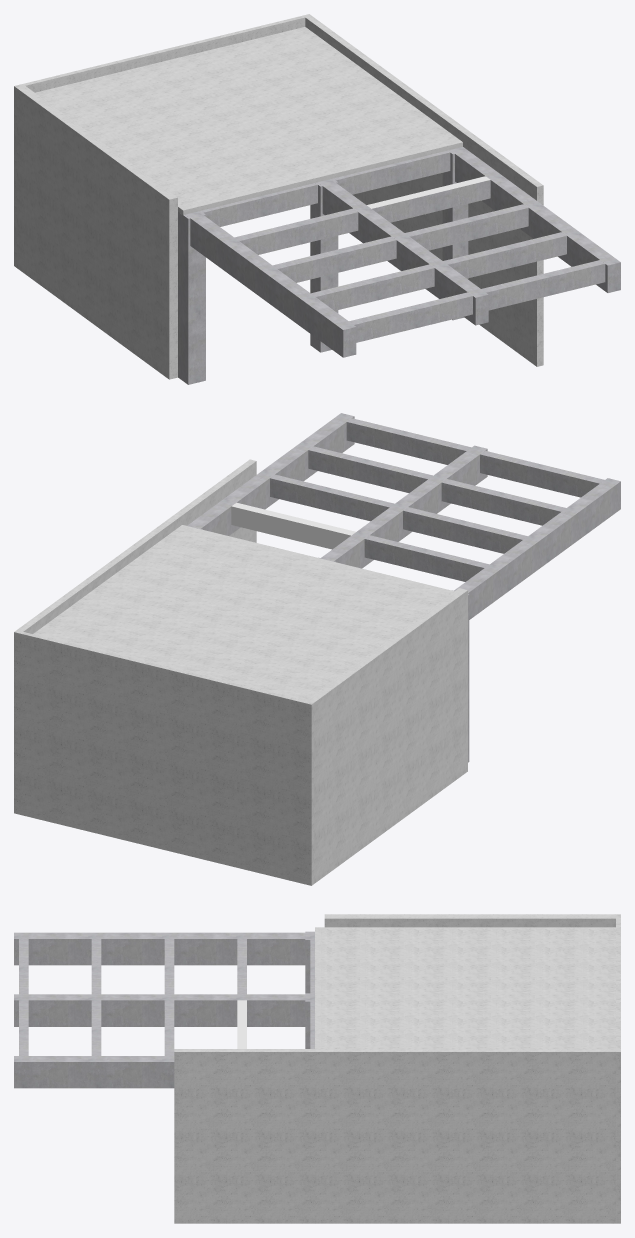
Rendered from cast-ribbed-floor.glb.
The picture shows the model from 3 angles, top to bottom: view 1: azimuth 30°, elevation 25°; view 2: azimuth 150°, elevation 25°; view 3: azimuth 270°, elevation 25°; orthographic projection. The views are drawn at different scales.
Parts seen in each view (by area): view 1: 其他, 板, 次梁, 主梁, 柱; view 2: 其他, 板, 次梁, 主梁; view 3: 其他, 板, 主梁, 次梁, 柱.
Part boxes in pixels (bbox=[...]): 其他: bbox=[14, 14, 543, 379]; 板: bbox=[35, 27, 462, 214]; 次梁: bbox=[201, 150, 605, 342]; 主梁: bbox=[186, 147, 620, 357]; 柱: bbox=[178, 150, 468, 384]; 其他: bbox=[14, 459, 467, 885]; 板: bbox=[33, 525, 454, 700]; 次梁: bbox=[231, 418, 604, 581]; 主梁: bbox=[187, 413, 620, 619]; 其他: bbox=[174, 914, 620, 1223]; 板: bbox=[315, 927, 615, 1048]; 主梁: bbox=[14, 932, 314, 1088]; 次梁: bbox=[19, 939, 314, 1055]; 柱: bbox=[305, 931, 314, 1048].
Bounding box in the file's own units: 6.7 × 3.9 × 12.5.
Materials: 6 (5 with a texture image).
